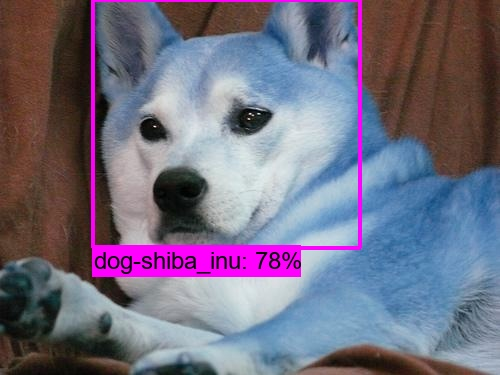dog-shiba_inu: (93, 1, 359, 252)
